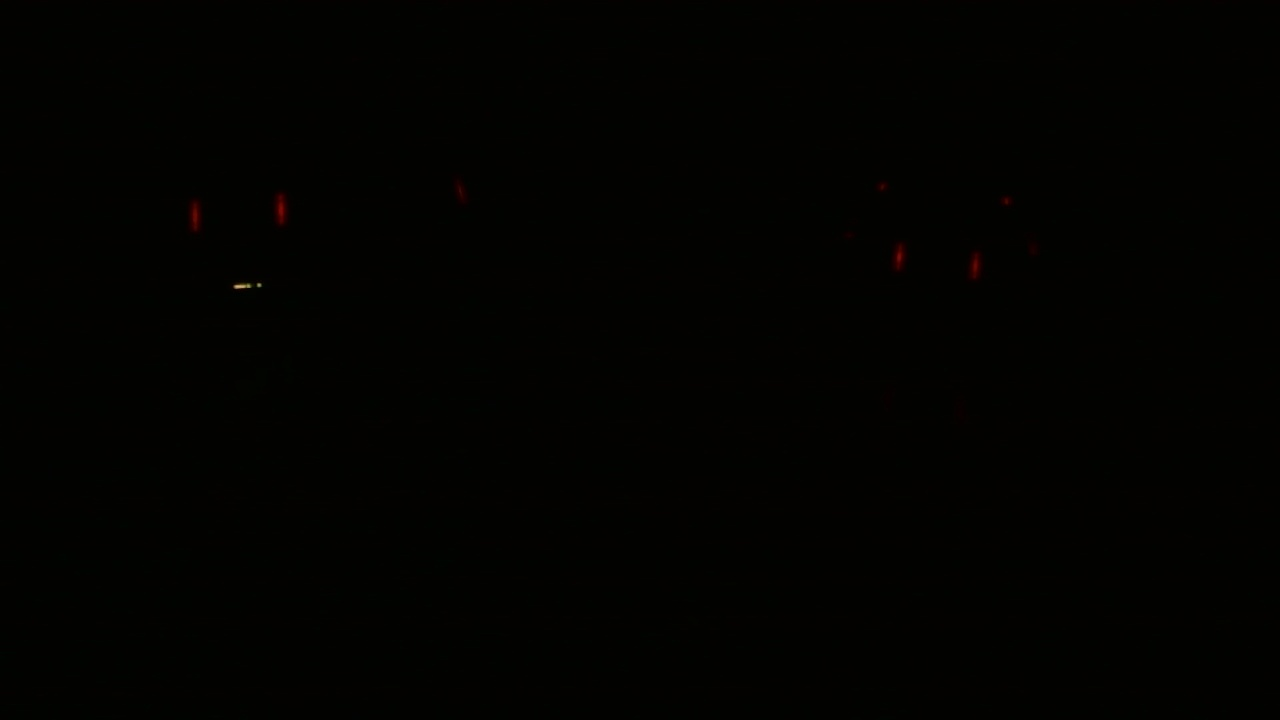pair1: (174, 180, 302, 248)
pair2: (888, 238, 992, 289)
